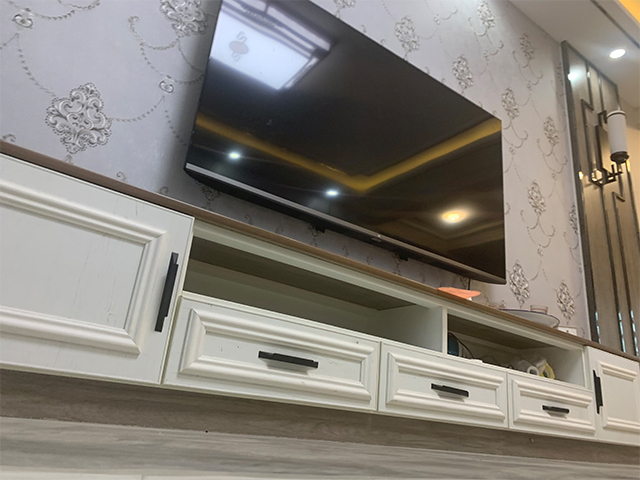cabinet: (1, 140, 640, 465)
